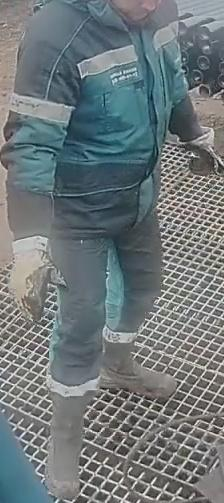gloves: (6, 227, 69, 326), (177, 125, 223, 176)
vest: (4, 0, 185, 234)
